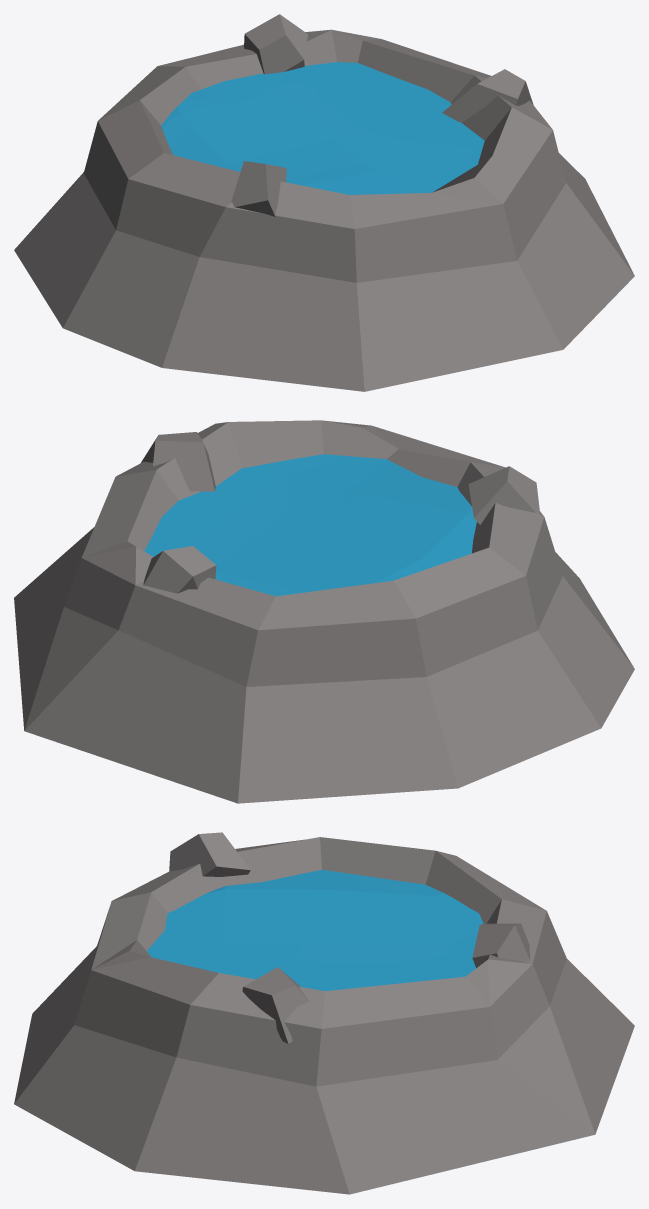
Rendered from resources_crater-water.fbx.
3 renders of one model, top to bottom at view 1: azimuth 30°, elevation 25°; view 2: azimuth 150°, elevation 25°; view 3: azimuth 270°, elevation 25°, orthographic. The views are drawn at different scales.
Visible parts, largest first — view 1: resources_crater_water; view 2: resources_crater_water; view 3: resources_crater_water.
Boxes of the visible parts, left/top/right/bottom form: resources_crater_water: left=14, top=14, right=634, bottom=391; resources_crater_water: left=14, top=420, right=634, bottom=803; resources_crater_water: left=14, top=832, right=634, bottom=1194.
Bounding box in the file's own units: 200 × 60.58 × 198.
